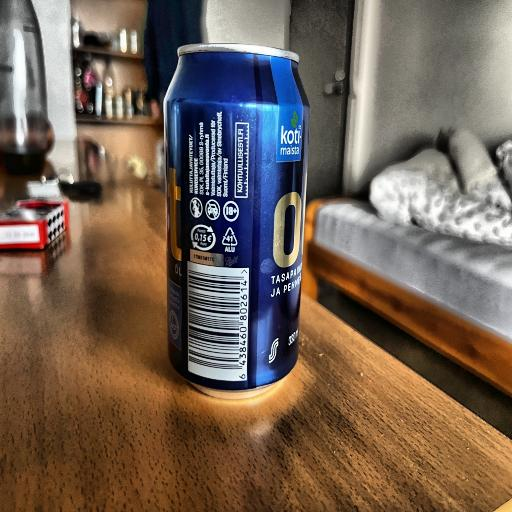koti: (163, 47, 312, 400)
